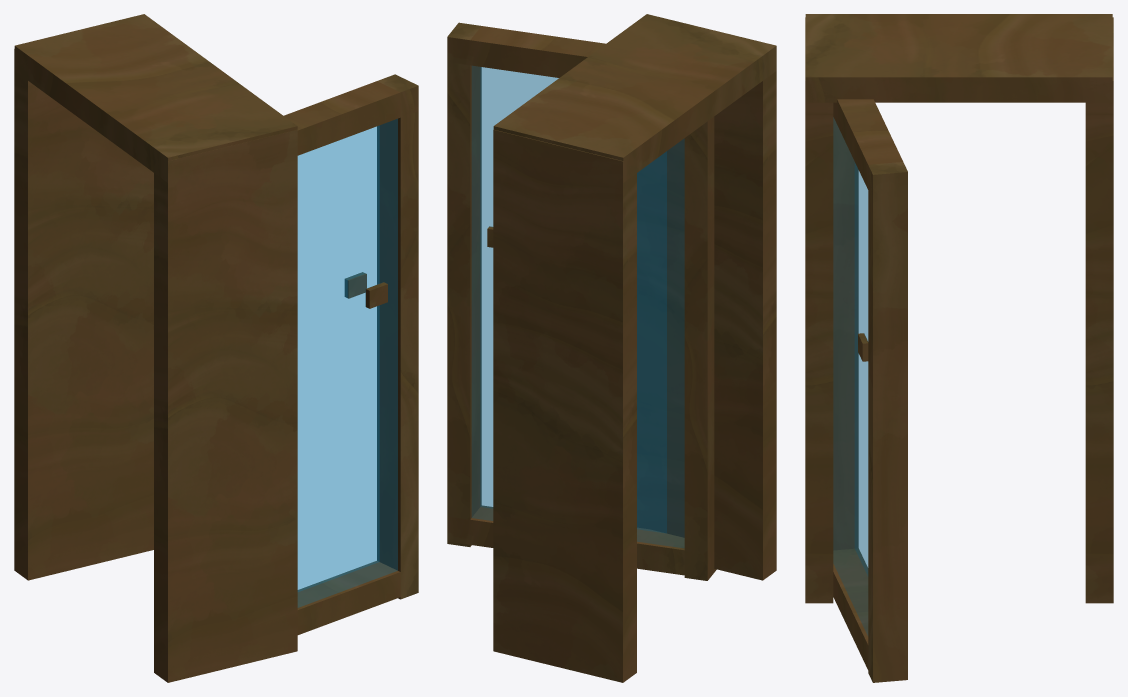
Rendered from portaA.fbx.
The picture shows the model from 3 angles, left to right: view 1: azimuth 30°, elevation 25°; view 2: azimuth 150°, elevation 25°; view 3: azimuth 270°, elevation 25°; orthographic projection.
Parts seen in each view (by area): view 1: Cube.084, Cube.083, Cube.051, Cube.082, Cube.055, Cube.052, Cube.054; view 2: Cube.083, Cube.084, Cube.051, Cube.082, Cube.055, Cube.053, Cube.052, Cube.054; view 3: Cube.082, Cube.055, Cube.051, Cube.083, Cube.084, Cube.053, Cube.052, Cube.054.
Boxes of the visible parts, bbox=[...] form: Cube.084: bbox=[154, 129, 297, 682]; Cube.083: bbox=[14, 49, 153, 580]; Cube.051: bbox=[297, 119, 397, 607]; Cube.082: bbox=[14, 14, 297, 182]; Cube.055: bbox=[377, 74, 418, 599]; Cube.052: bbox=[284, 81, 417, 155]; Cube.054: bbox=[297, 561, 400, 634]; Cube.083: bbox=[493, 129, 636, 682]; Cube.084: bbox=[637, 71, 776, 580]; Cube.051: bbox=[472, 66, 684, 547]; Cube.082: bbox=[493, 14, 776, 182]; Cube.055: bbox=[447, 22, 481, 546]; Cube.053: bbox=[684, 117, 716, 580]; Cube.052: bbox=[448, 26, 605, 77]; Cube.054: bbox=[448, 505, 684, 575]; Cube.082: bbox=[805, 14, 1112, 102]; Cube.055: bbox=[868, 162, 907, 682]; Cube.051: bbox=[833, 118, 868, 634]; Cube.083: bbox=[1085, 17, 1113, 603]; Cube.084: bbox=[805, 17, 833, 603]; Cube.053: bbox=[833, 117, 858, 550]; Cube.052: bbox=[833, 99, 903, 194]; Cube.054: bbox=[833, 548, 868, 669].
Size of the model in its own units: 352 by 626 by 330.
